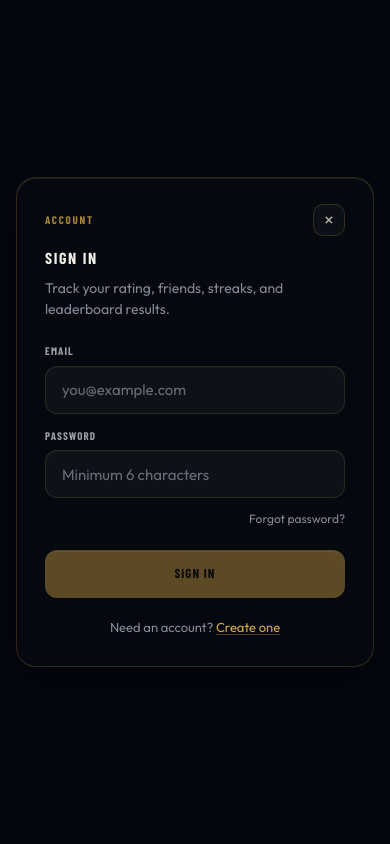
Scenario: AuthModal — sign-up legal line › is absent on sign in and present, unobtrusively, on create account
Check: the text "By creating an account you agree" is not shown
Click the button "Need an account? Create one" at (195, 628), box [110,614,280,642]
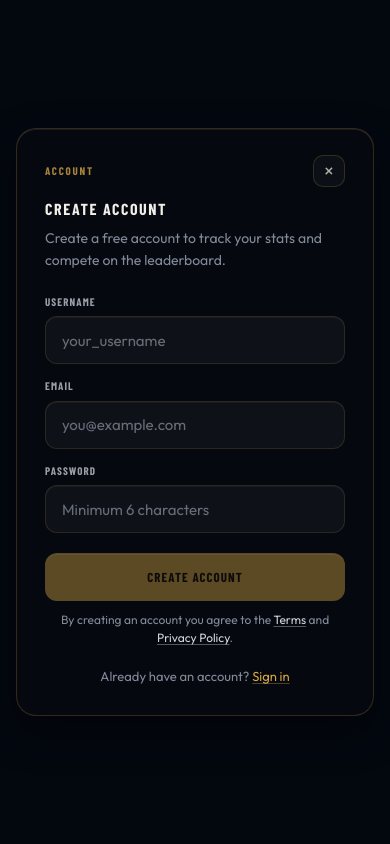
Check: the text "By creating an account you agree to the" is shown, box [61,612,271,627]
